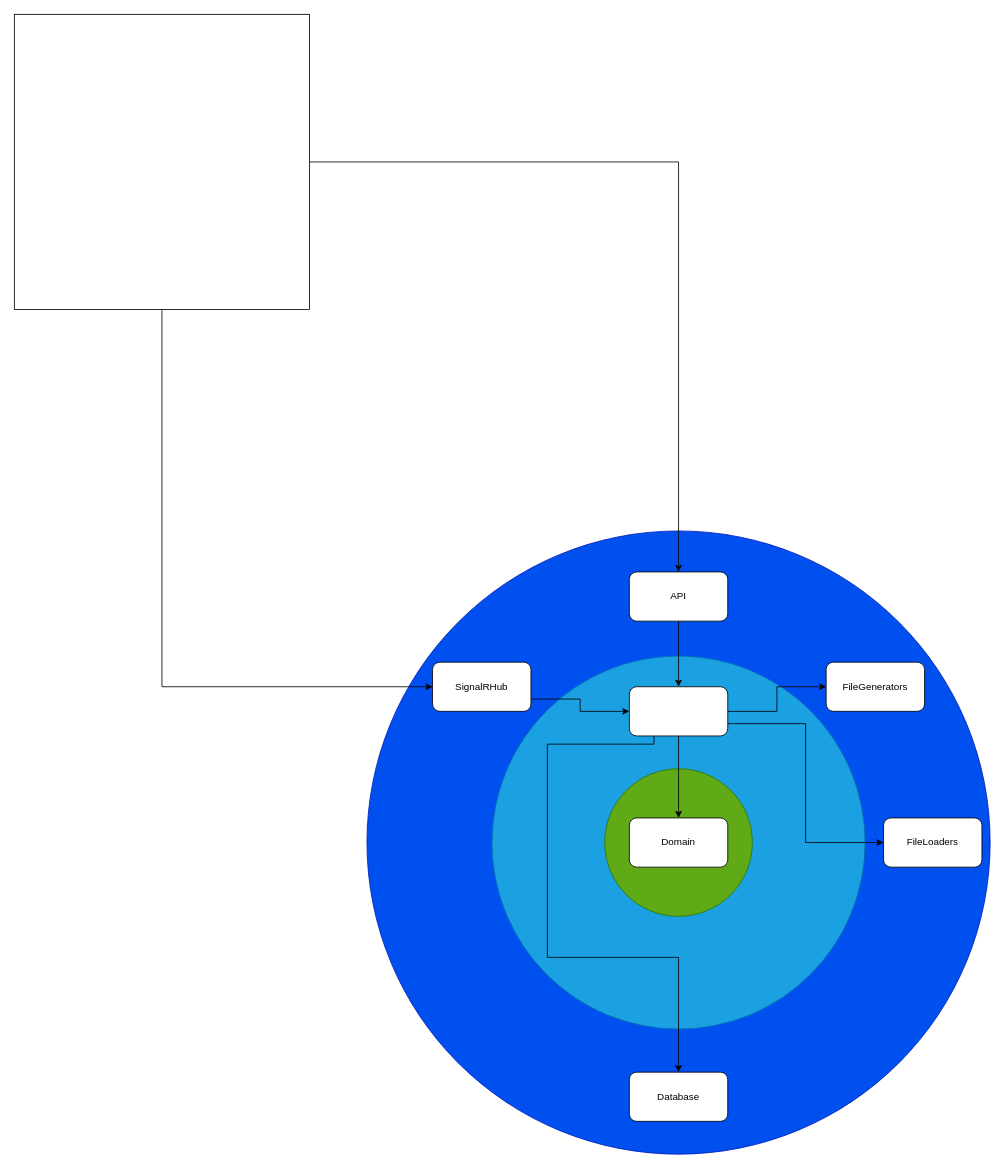
This 1005x1169 diagram has some shape labels left out. The shapes that lost their labels are listed below. From the top down, each one's centre as x and y in pixels, then its label:
At (162,162): "Client Application".
At (678,711): "Services".
